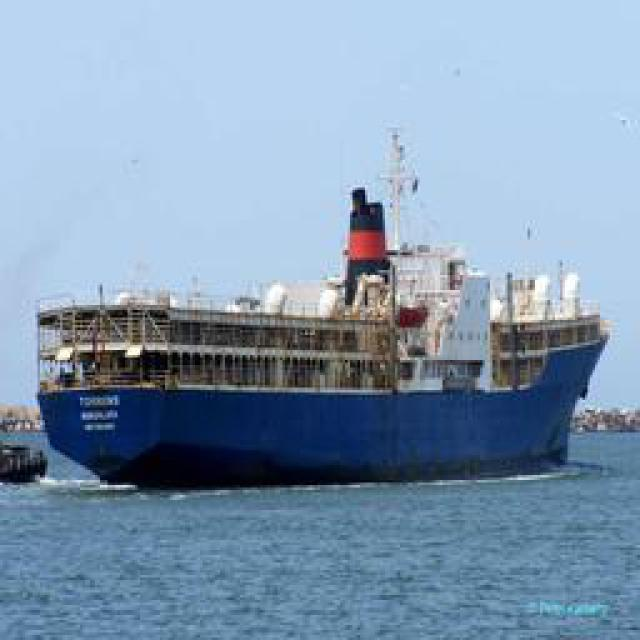Ship: (39, 120, 612, 490)
